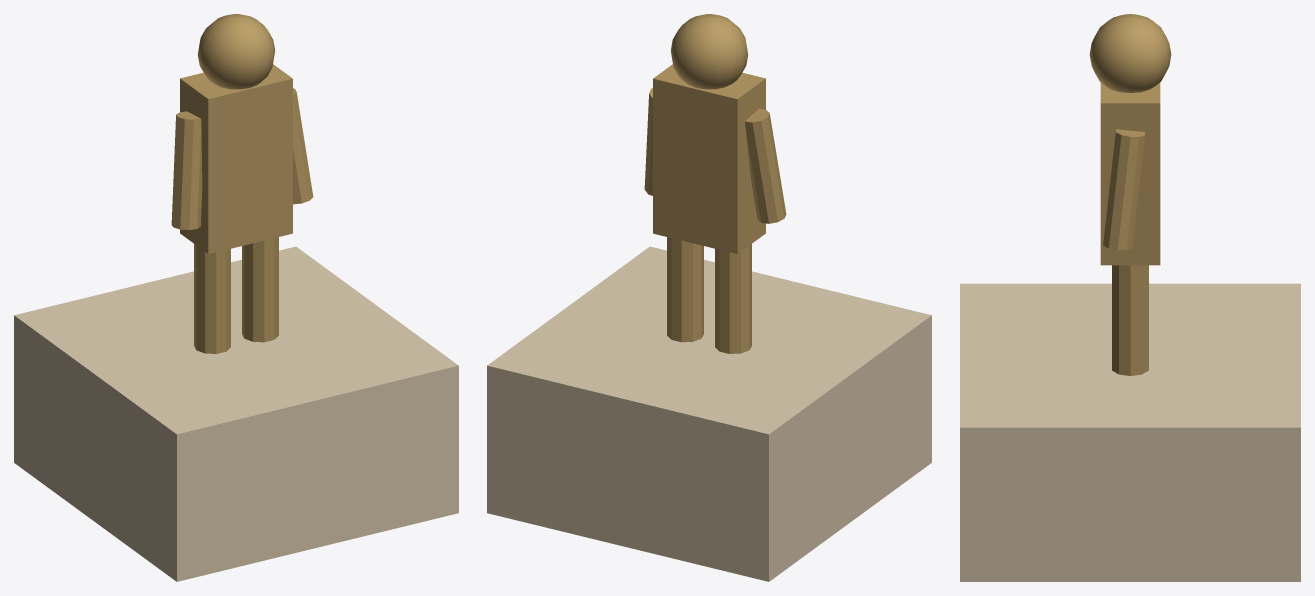
File: chen-yi-statue.glb
The picture shows the model from 3 angles, left to right: view 1: azimuth 30°, elevation 25°; view 2: azimuth 150°, elevation 25°; view 3: azimuth 270°, elevation 25°; orthographic projection. The views are drawn at different scales.
Visible parts, largest first — view 1: chen-yi-statue; view 2: chen-yi-statue; view 3: chen-yi-statue.
Boxes of the visible parts, x1,y1,x2,y2 form: chen-yi-statue: (14, 14, 458, 581); chen-yi-statue: (487, 14, 931, 581); chen-yi-statue: (960, 14, 1300, 581).
Bounding box in the file's own units: 4 × 6.38 × 4.
